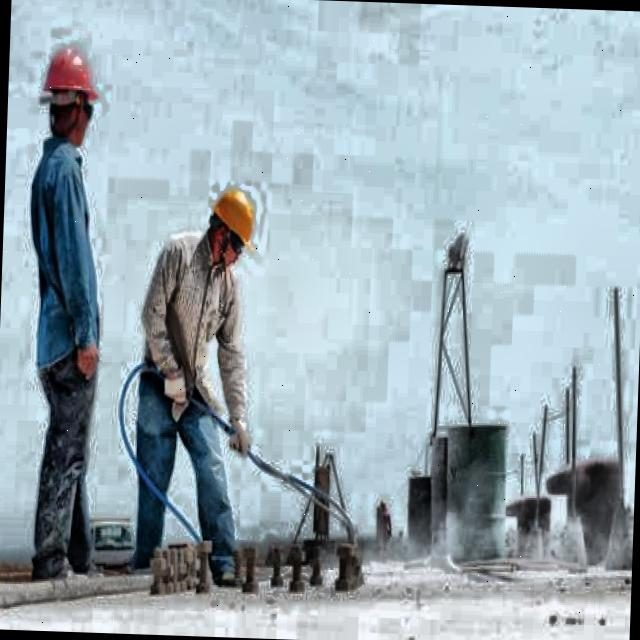helmet: (34, 36, 103, 152), (200, 177, 260, 280)
